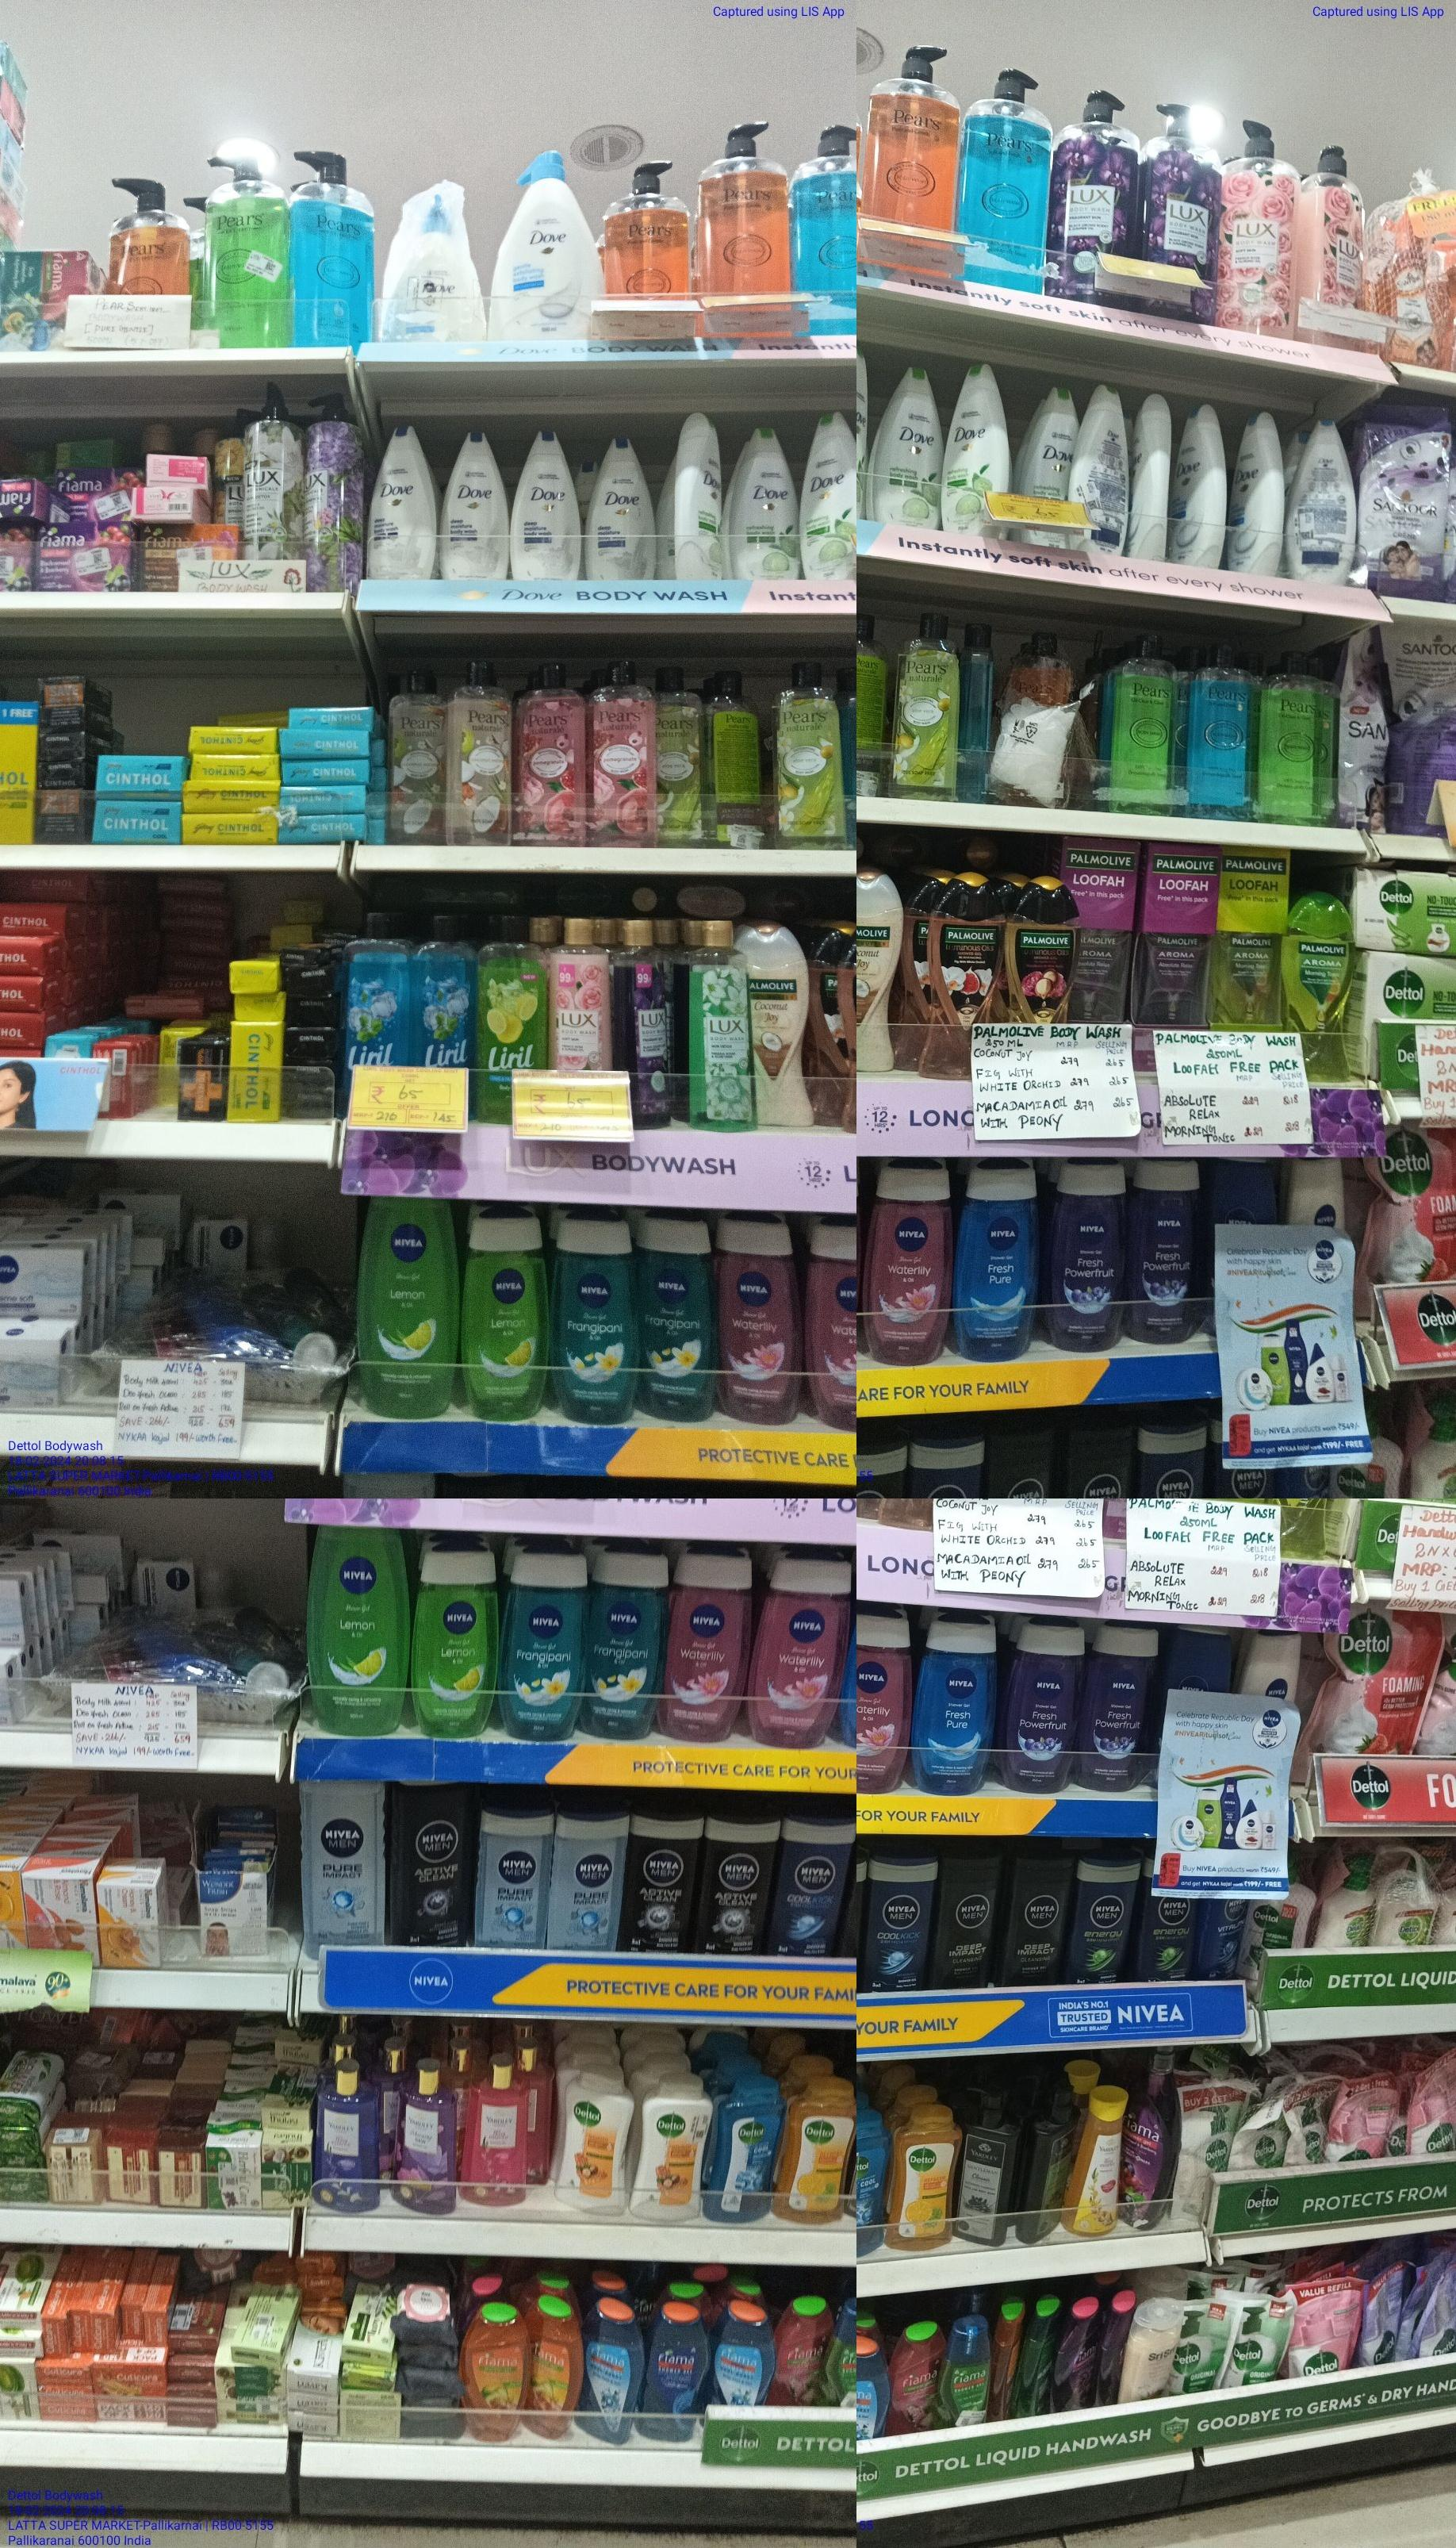Dettol_Bodywash_Cool: (710, 2081, 775, 2224)
Dettol_Bodywash_Refresh: (885, 2103, 957, 2257), (784, 2082, 847, 2219)
Dettol_Nourish_Body_Wash_250ML: (630, 2074, 707, 2221), (558, 2065, 626, 2219)
Dove_Deep_Moisture_Body_Wash_250ML: (586, 430, 656, 577), (513, 427, 581, 577), (373, 423, 436, 579), (443, 429, 506, 579)
Dove_Refreshing_Body_Wash_250ML: (730, 429, 803, 581), (941, 360, 1003, 537), (871, 362, 936, 527)
Fiama_Shower_Gel_Peach_and_Avocado_250ML: (460, 2303, 527, 2441), (530, 2298, 583, 2441)
Liril_Cooling_Mint_Body_Wash_250ML: (341, 913, 406, 1062), (411, 913, 472, 1064)
Liril_Lime_and_Tea_Tree_Oil_Body_Wash_250ML: (479, 919, 548, 1069)
Lux_Black_Orchid_Scent_and_Juniper_Oil_Body_Wash_245ML: (621, 919, 672, 1123)
Lux_Body_Wash_Skin_Detox_Freesia_Scent_and_Alove_Vera_245ML: (689, 919, 754, 1136)
Nivea_Shower_Gel_Frangipani_and_Oil_250ML: (635, 1213, 716, 1421), (553, 1221, 633, 1421), (588, 1545, 660, 1741), (504, 1554, 579, 1739)
Nivea_Shower_Gel_Fresh_Powerfruit_250ML: (1043, 1160, 1130, 1351), (1134, 1158, 1214, 1340), (999, 1617, 1080, 1794), (1087, 1619, 1160, 1795)
Nivea_Shower_Gel_Lemon_and_Oil_250ML: (355, 1200, 462, 1421), (308, 1531, 408, 1729), (467, 1204, 546, 1423), (416, 1542, 497, 1741)
Nivea_Shower_Gel_Waterlily_and_Oil_250ML: (861, 1158, 950, 1365), (719, 1209, 801, 1424), (756, 1557, 838, 1750), (672, 1552, 747, 1739), (852, 1606, 919, 1795)
Palmolive_Aroma_Morning_Tonic_Shower_Gel_250ML: (1281, 891, 1349, 1081)
Palmolive_Coconut_Joy_Exfoliating_Body_Wash_250ML: (756, 919, 810, 1129), (857, 870, 905, 1069)
Palmolive_Luminous_Oils_Invigorating_Macadamia_Oil_With_Peony_250ML: (1011, 875, 1074, 1024)
Palmolive_Luminous_Oils_With_White_Orchid_Shower_Gel_250ML: (927, 873, 999, 1080)
Pears_Naturale_Aloe_Vera_Body_Wash_250ML: (887, 607, 955, 800), (773, 660, 843, 838), (658, 663, 705, 842)
Pears_Pure_Glycerin_and_Lemon_Flower_Extracts_Body_Wash_250ML: (1106, 633, 1169, 814), (1262, 656, 1326, 822)
Pears_Pure_Glycerin_and_Mint_Extracts_Body_Wash_250ML: (1186, 649, 1251, 817)
